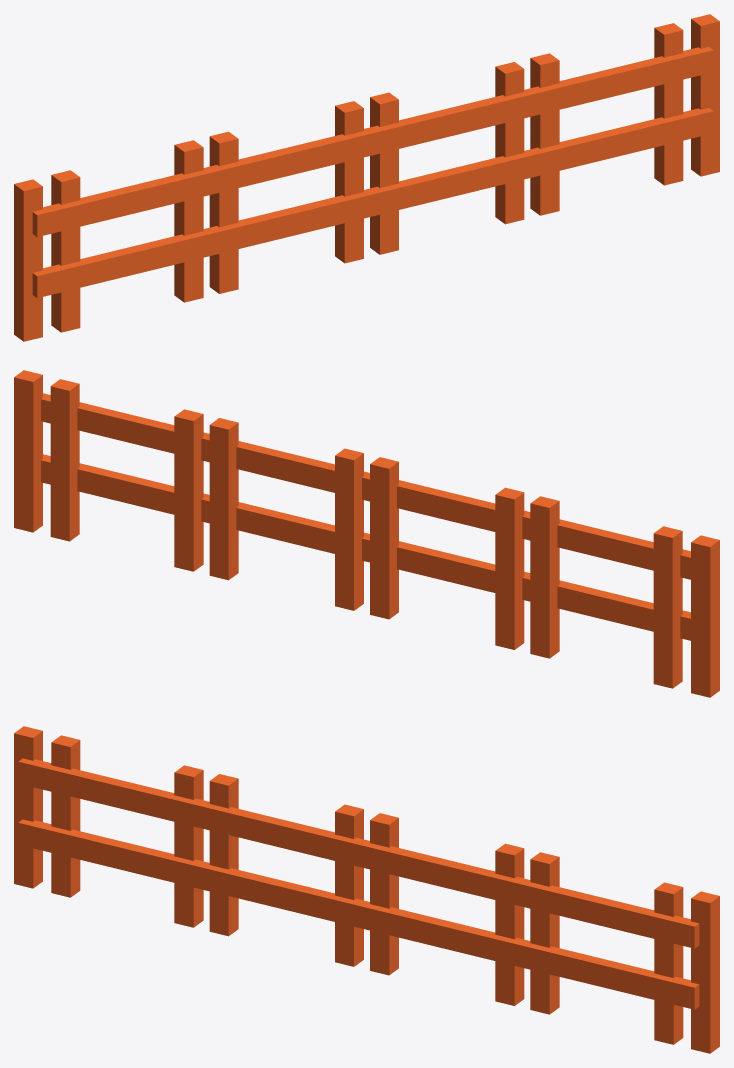
File: fall island FENCE.fbx
3 views of the same model, one above another, from view 1: azimuth 30°, elevation 25°; view 2: azimuth 150°, elevation 25°; view 3: azimuth 330°, elevation 25° (orthographic).
Visible parts, largest first — view 1: fence; view 2: fence; view 3: fence.
Part boxes in pixels (box(x1,y1,x2,y2)): fence: box(14, 14, 719, 341); fence: box(14, 370, 719, 697); fence: box(14, 726, 719, 1053).
Bounding box in the file's own units: 7193 × 1487 × 258.
